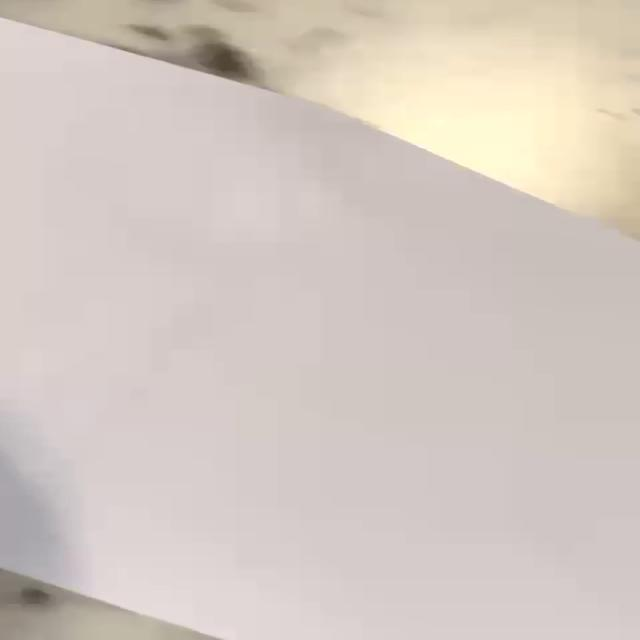road: (0, 19, 640, 640)
